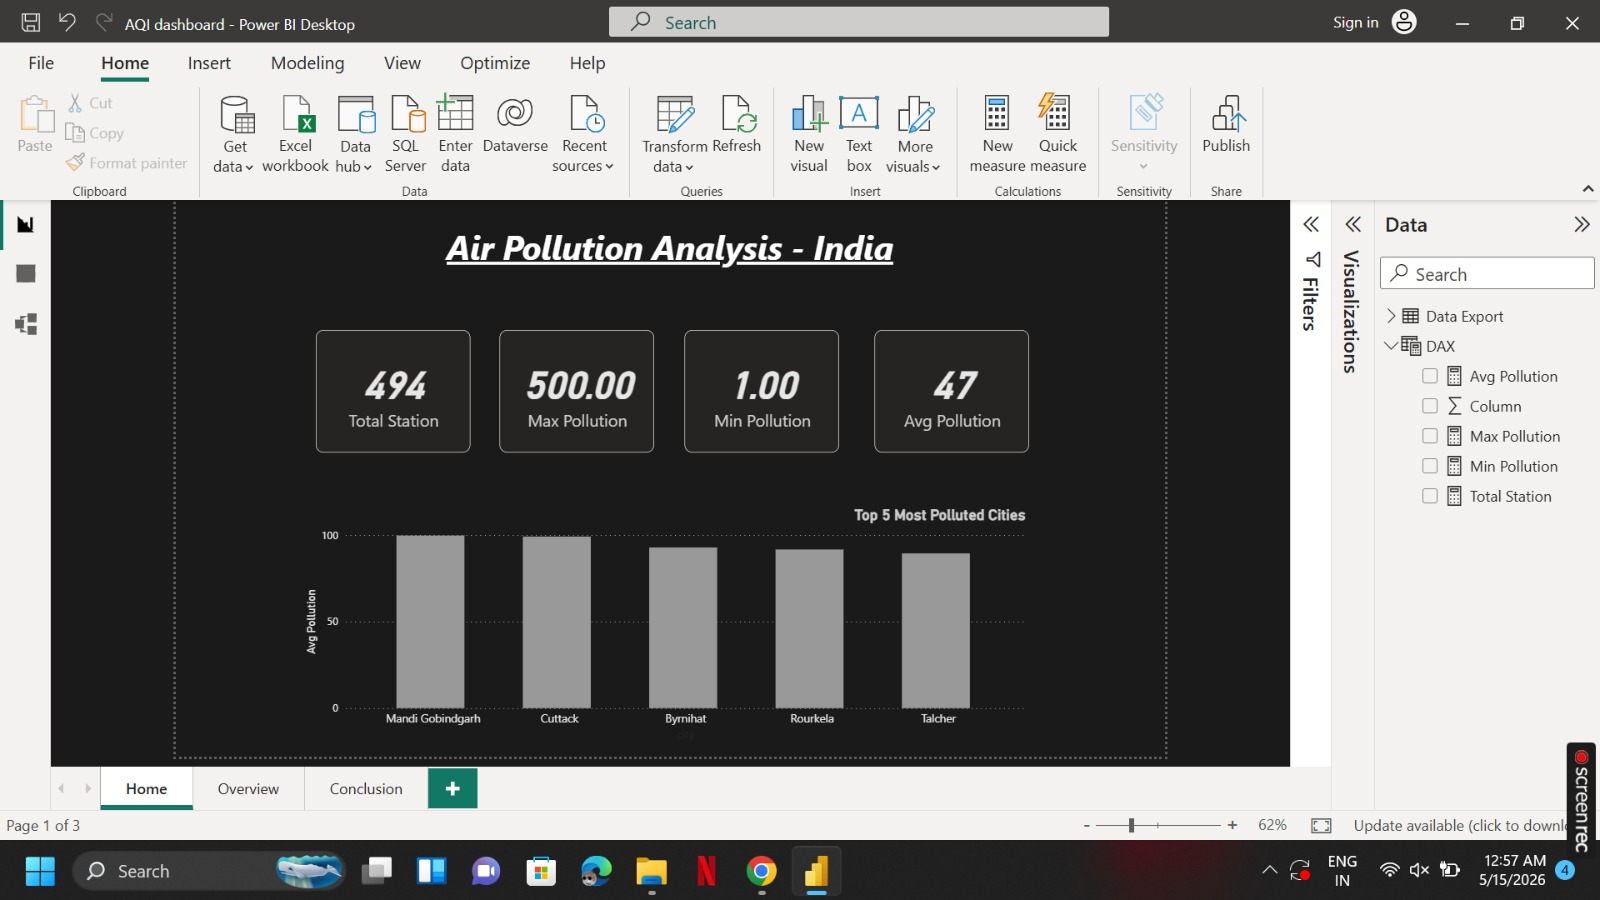

This screenshot's page, from the dashboard's own definition file:
{"tool":"powerbi","page":{"name":"Page 1","canvas":[1280,720],"ordinal":0},"visuals":[{"type":"card","fields":{"Values":["DAX.Avg Pollution"]},"box":[905.2,167.6,200.3,158.7],"z":0},{"type":"card","fields":{"Values":["DAX.Max Pollution"]},"box":[418.9,168.8,200.3,158.7],"z":1000},{"type":"card","fields":{"Values":["DAX.Min Pollution"]},"box":[658.9,168.8,200.3,158.7],"z":2000},{"type":"card","fields":{"Values":["DAX.Total Station"]},"box":[180.8,168.2,200.3,158.7],"z":3000},{"type":"textbox","box":[0,26.5,1279.4,86.9],"z":4000},{"type":"columnChart","title":"Top 5 Most Polluted Cities","fields":{"Category":["Data Export.city"],"Y":["DAX.Avg Pollution"]},"box":[162.5,396.9,943,308],"z":4001}]}

Visuals, with their boxes on the page's 1280x720 design canvas (x1, y1, x2, y2). These are canvas units, not pixel positions in the 1600x900 screenshot, which may show the page scaled, cropped or inside an application window:
card - DAX.Avg Pollution: BBox(905, 168, 1106, 326)
card - DAX.Max Pollution: BBox(419, 169, 619, 328)
card - DAX.Min Pollution: BBox(659, 169, 859, 328)
card - DAX.Total Station: BBox(181, 168, 381, 327)
textbox: BBox(0, 26, 1279, 113)
"Top 5 Most Polluted Cities" columnChart: BBox(162, 397, 1106, 705)
